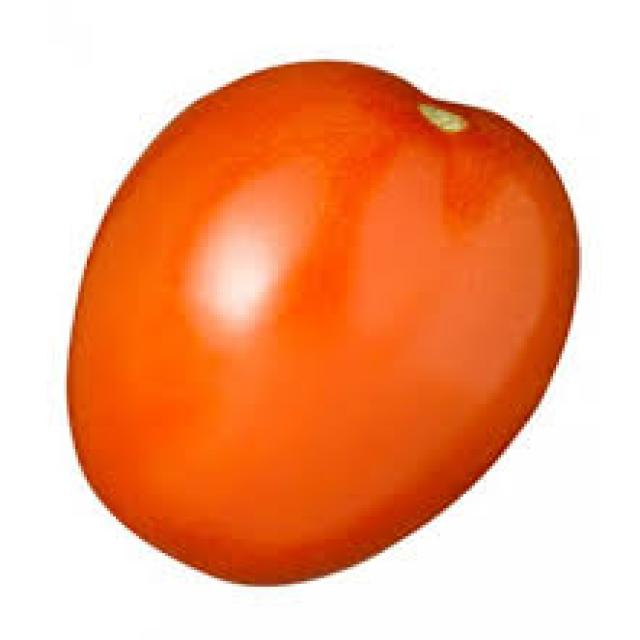Fresh_tomato: (64, 55, 586, 589)
